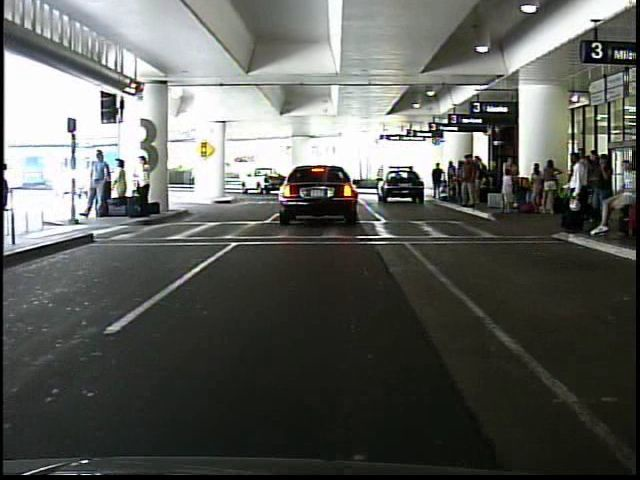person: (552, 145, 599, 245), (84, 148, 114, 223), (135, 152, 154, 219), (112, 157, 132, 212), (431, 162, 446, 202)
